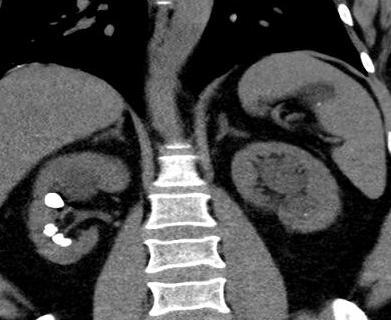Tas_Var: (43, 190, 66, 210), (50, 232, 78, 248), (40, 222, 61, 237), (302, 211, 312, 220)
